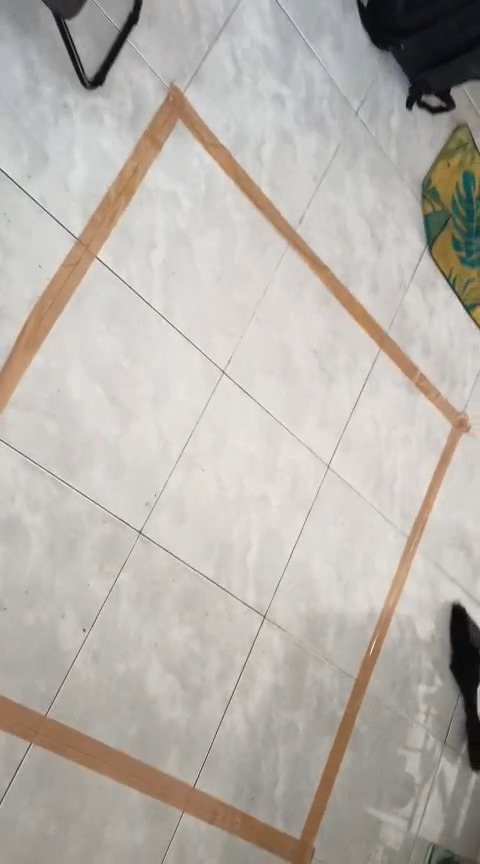floor marking: (0, 85, 469, 863)
